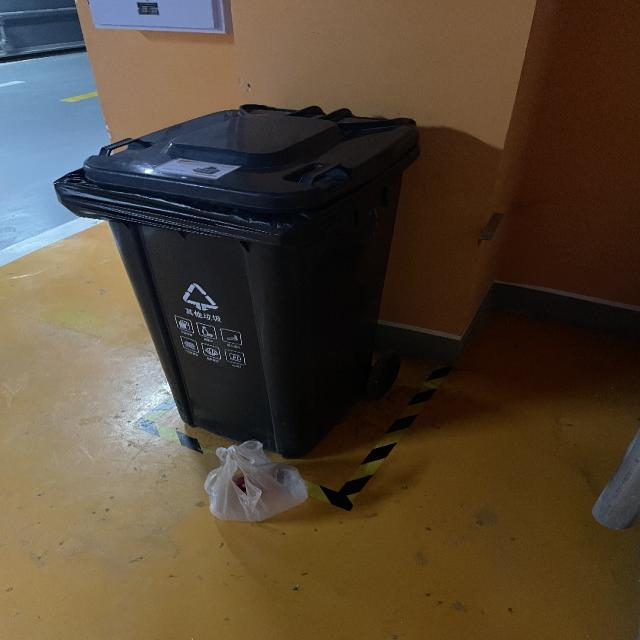garbage: (202, 438, 309, 522)
garbage_bin: (53, 103, 417, 458)
